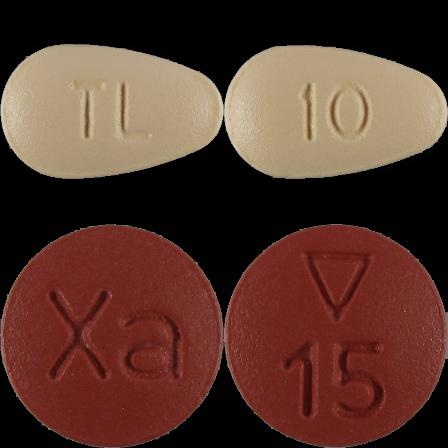69189-0560: (0, 0, 224, 224)
